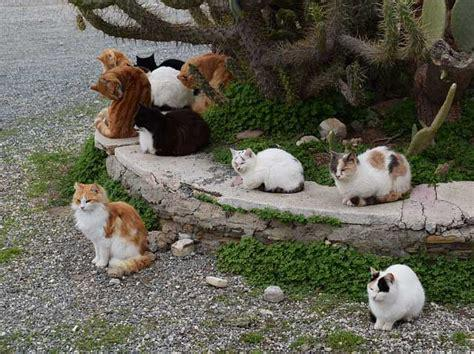cat: (72, 181, 152, 275), (328, 149, 413, 207), (91, 64, 150, 138), (133, 103, 211, 156), (367, 265, 426, 329), (230, 148, 305, 194), (98, 49, 131, 73)
